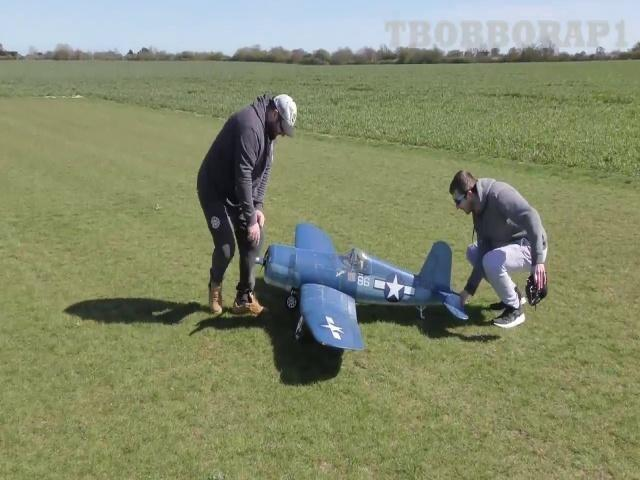Airplane: (259, 224, 468, 349)
